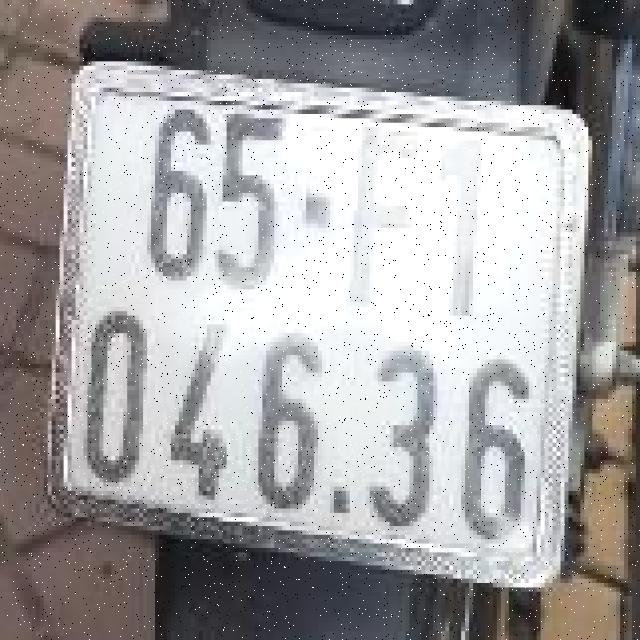0: (80, 309, 155, 498)
1: (433, 138, 493, 327)
3: (362, 340, 449, 541)
4: (169, 316, 244, 500)
5: (217, 108, 288, 292)
6: (461, 348, 541, 559), (252, 331, 328, 515), (139, 103, 215, 278)
F: (340, 118, 423, 324)
